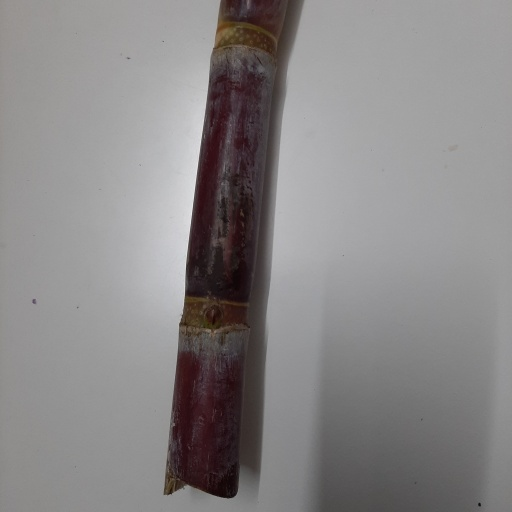Bud: (204, 304, 220, 328)
